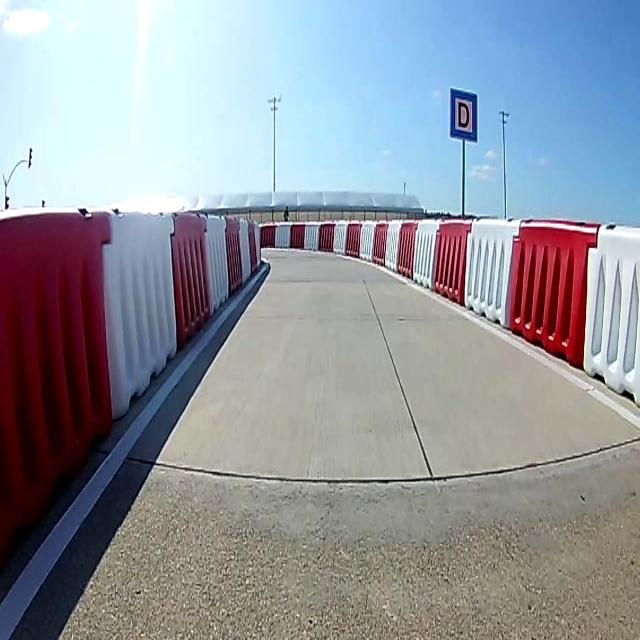durak: (449, 88, 477, 142)
